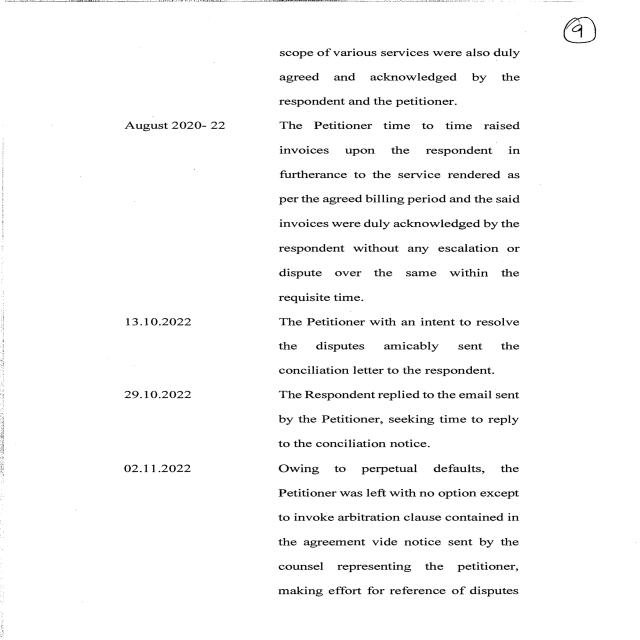page-number: (524, 0, 640, 58)
